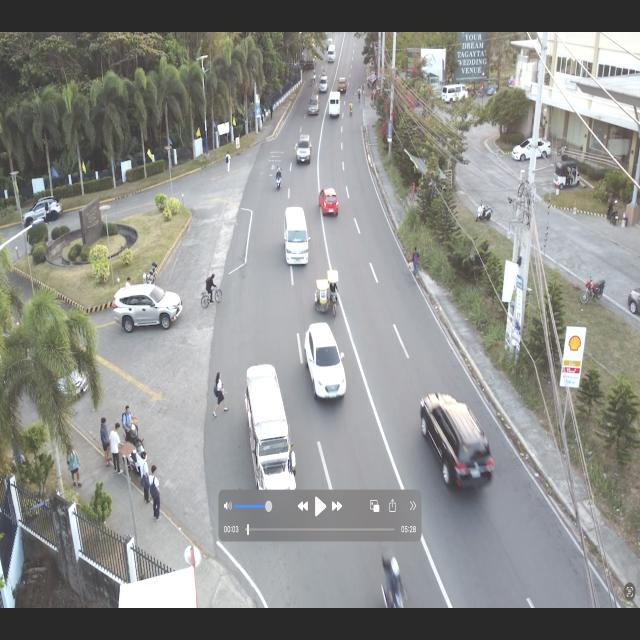bicycle: (200, 272, 223, 310), (557, 144, 569, 158)
car: (416, 388, 496, 497), (302, 320, 348, 404), (112, 284, 184, 332), (282, 204, 312, 270), (21, 196, 63, 230), (511, 136, 552, 161), (318, 186, 339, 218), (441, 83, 469, 106), (295, 134, 312, 166), (328, 91, 342, 118), (307, 94, 320, 117), (318, 75, 329, 95), (337, 76, 348, 95), (326, 44, 336, 64)
motorcycle: (379, 548, 407, 614), (118, 404, 146, 454), (579, 275, 606, 305), (475, 198, 493, 223), (274, 165, 282, 191), (349, 100, 353, 117), (310, 73, 314, 88), (322, 68, 326, 78), (313, 69, 316, 82)
person: (108, 420, 126, 478), (210, 370, 230, 420), (148, 464, 164, 523), (139, 451, 151, 505), (100, 416, 112, 470), (407, 246, 421, 278), (409, 180, 417, 203), (225, 150, 231, 174)
